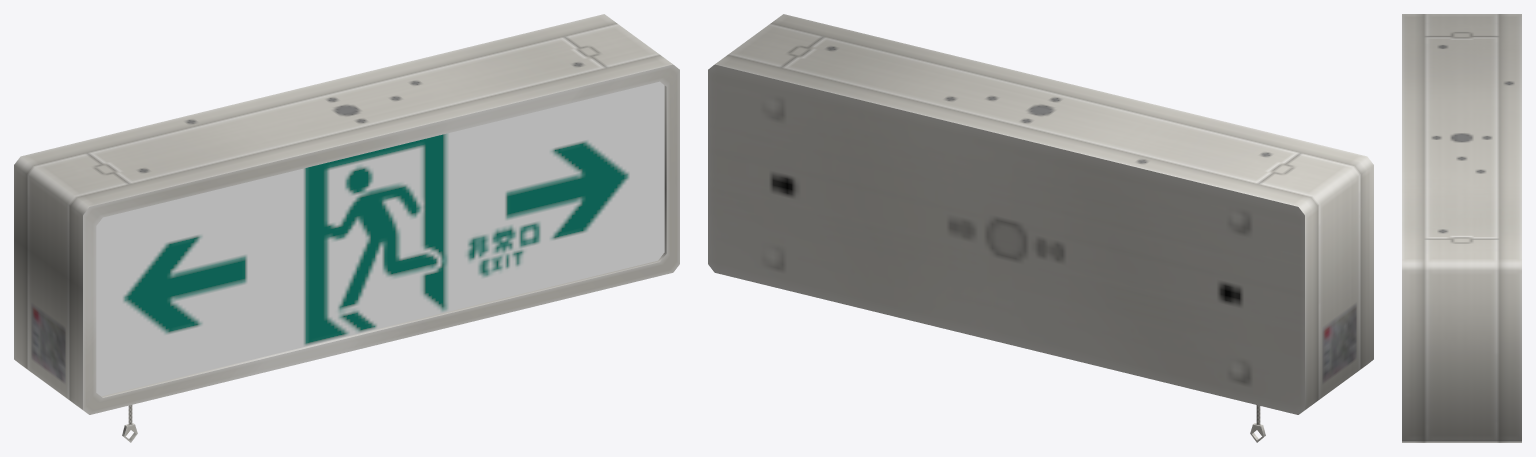
Rendered from SHW_Exitlight_01_13.fbx.
3 renders of one model, left to right at view 1: azimuth 30°, elevation 25°; view 2: azimuth 150°, elevation 25°; view 3: azimuth 270°, elevation 25°, orthographic. The views are drawn at different scales.
Visible parts, largest first — view 1: shw_exitlight_01_13; view 2: shw_exitlight_01_13; view 3: shw_exitlight_01_13.
Part boxes in pixels (x1,y1,x2,y2): shw_exitlight_01_13: [14, 14, 679, 442]; shw_exitlight_01_13: [708, 14, 1373, 442]; shw_exitlight_01_13: [1402, 14, 1521, 442].
Size of the model in its own units: 90 by 40.17 by 18.
